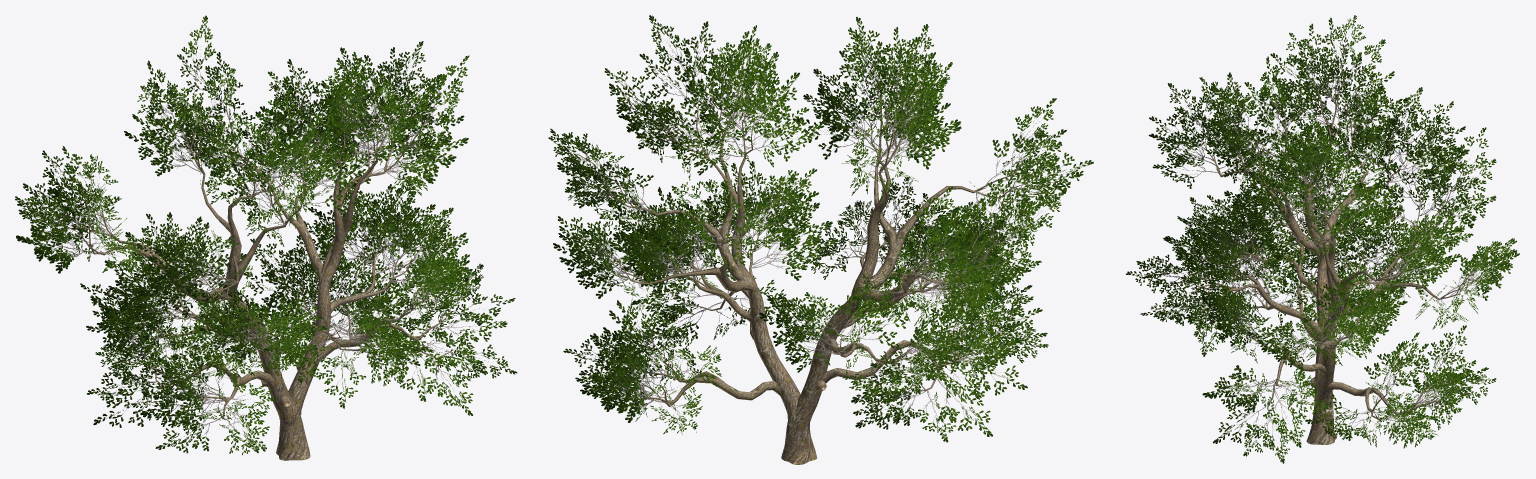
Rendered from Oaksixty.obj.
3 renders of one model, left to right at view 1: azimuth 30°, elevation 25°; view 2: azimuth 150°, elevation 25°; view 3: azimuth 270°, elevation 25°, orthographic. The views are drawn at different scales.
Visible parts, largest first — view 1: oak leaf, mossybark02; view 2: oak leaf, mossybark02; view 3: oak leaf, mossybark02.
Boxes of the visible parts, bbox=[...] form: oak leaf: bbox=[15, 15, 517, 455]; mossybark02: bbox=[63, 79, 454, 460]; oak leaf: bbox=[548, 15, 1093, 442]; mossybark02: bbox=[592, 75, 1033, 464]; oak leaf: bbox=[1126, 15, 1519, 463]; mossybark02: bbox=[1179, 56, 1470, 444].
Size of the model in its own units: 1034 by 972 by 884.
Materials: 3 (3 with a texture image).
